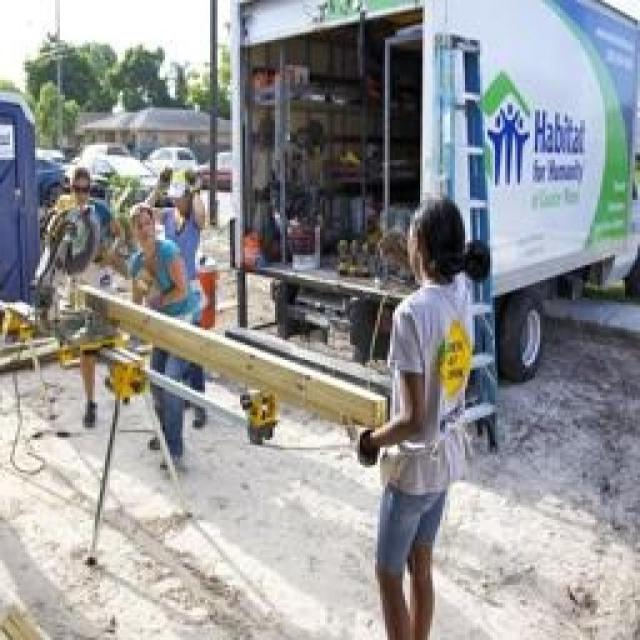Helmet: (372, 271, 488, 506), (112, 232, 208, 356), (403, 194, 483, 284), (48, 194, 102, 290), (120, 198, 168, 246), (57, 160, 98, 208)
